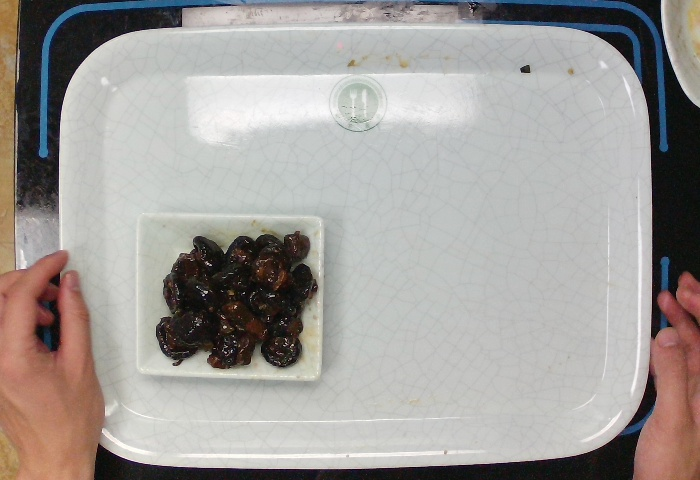WCQzf-Ru_Ci_Si_Fang_Die: (128, 205, 331, 391)
